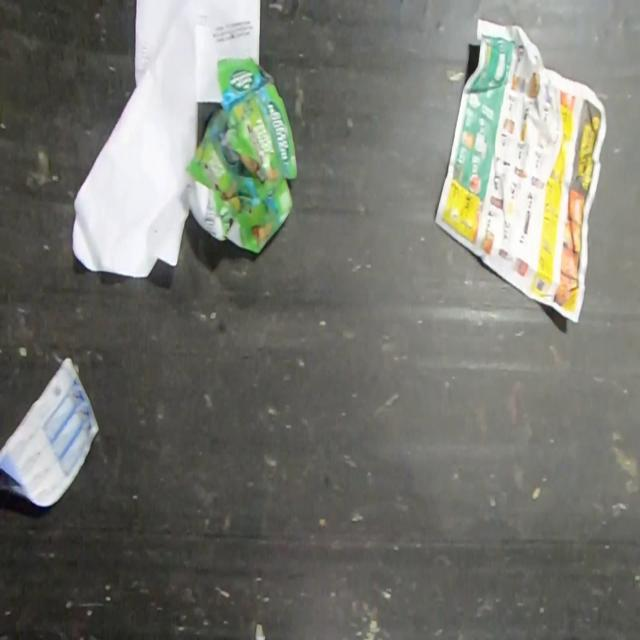cardboard: (182, 55, 298, 255)
